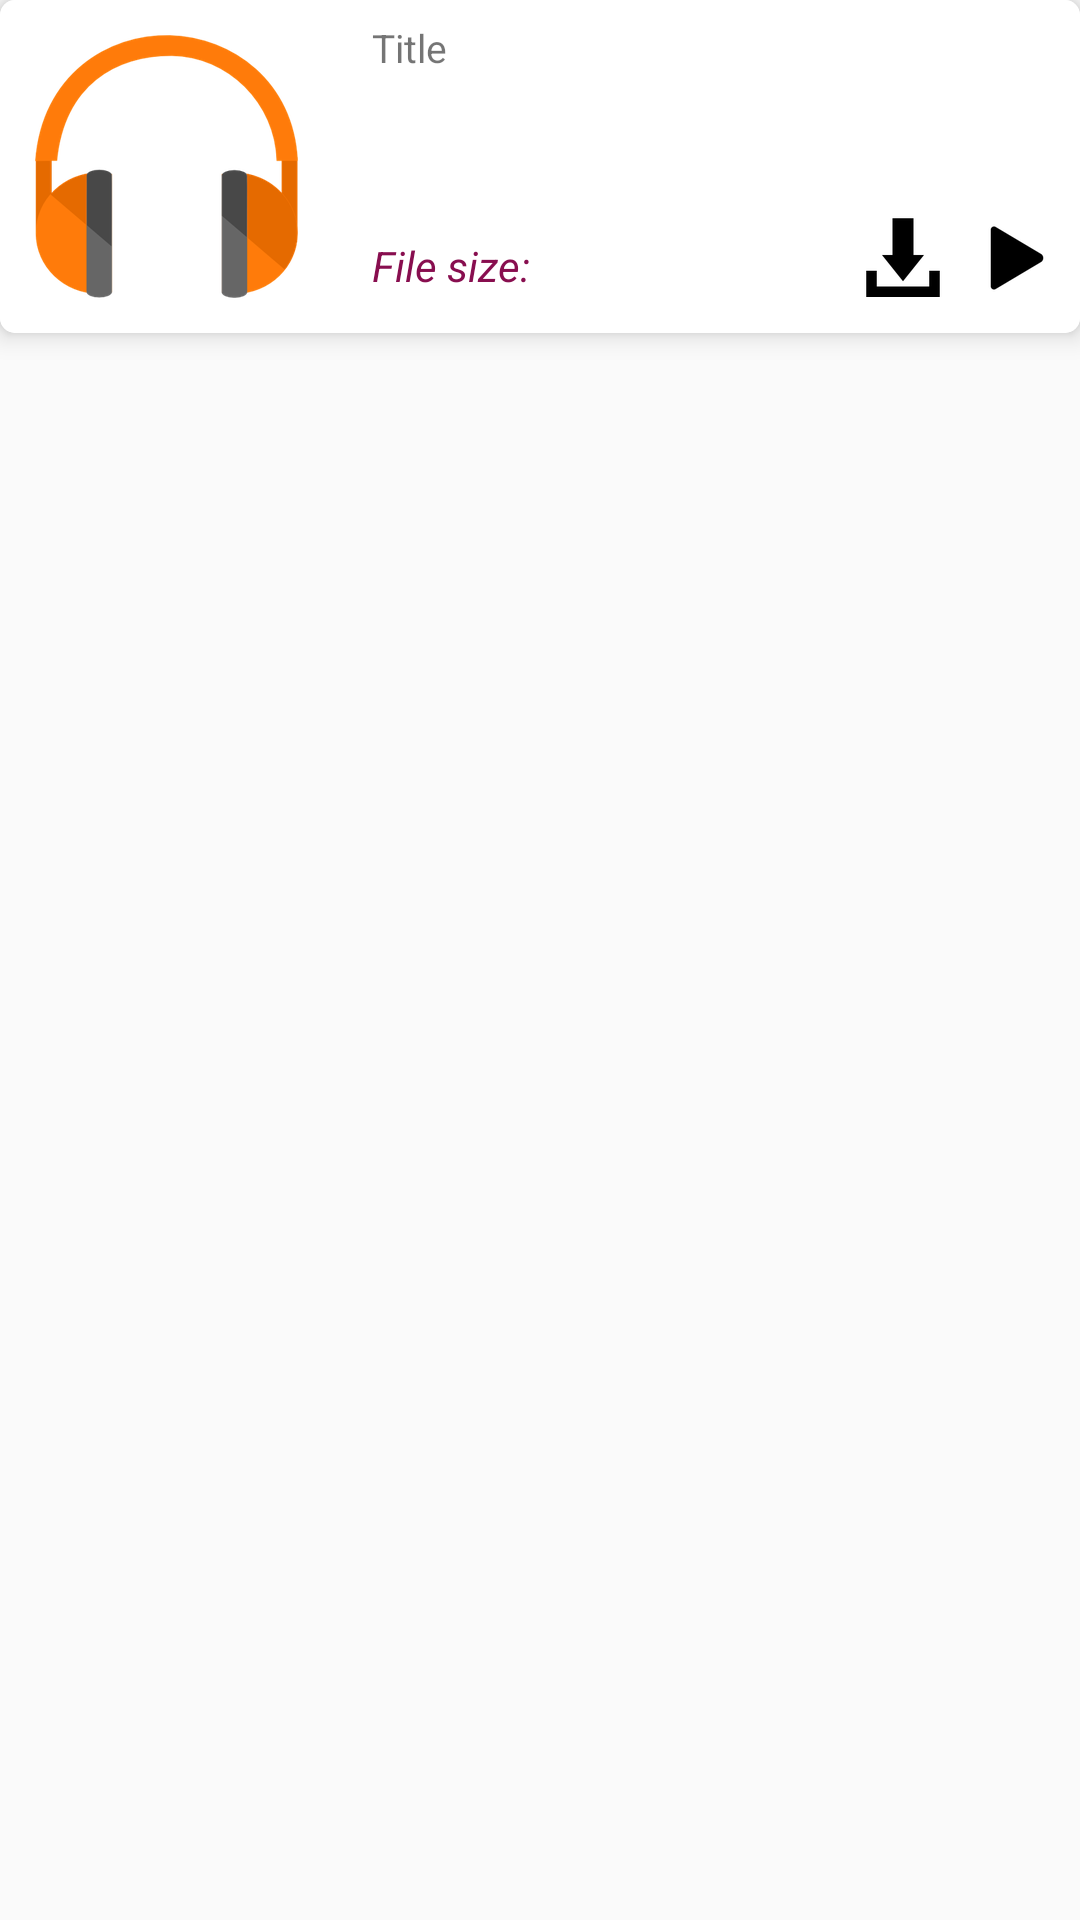

Point at icon controls on the screen. Image size 1080px x 1920px, points as point (x, y).
download: point (903, 257)
music: point (166, 166)
play: point (1017, 258)
